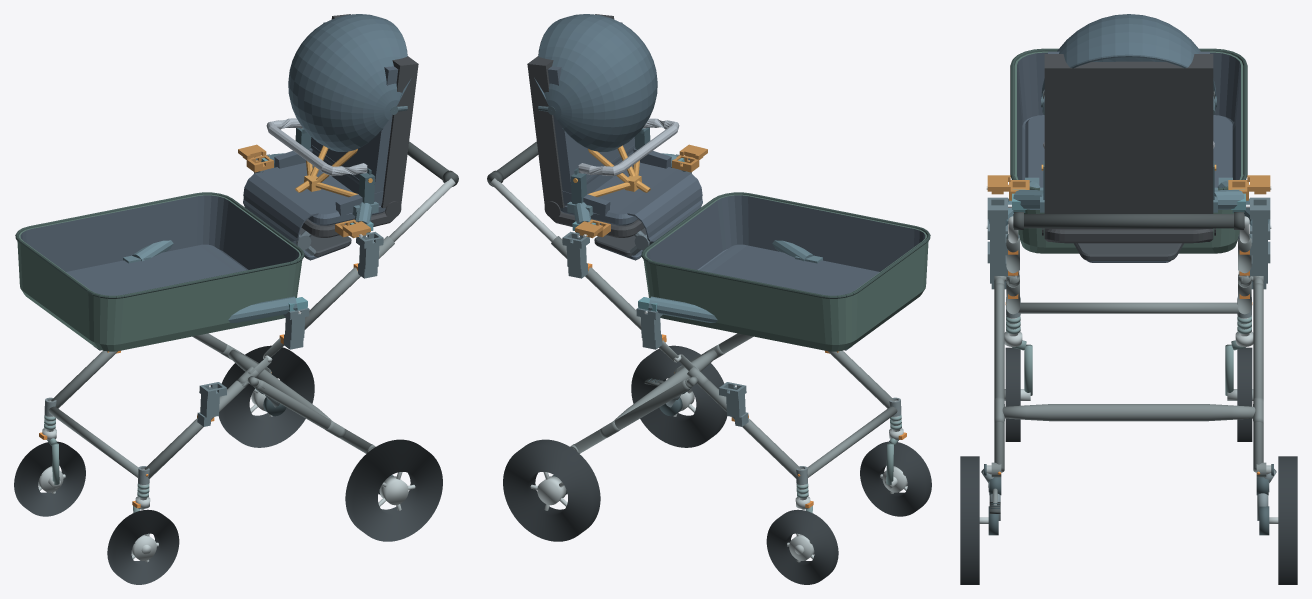
The model's file is D11_w650_state1_wheel_M.glb.
The picture shows the model from 3 angles, left to right: view 1: azimuth 30°, elevation 25°; view 2: azimuth 150°, elevation 25°; view 3: azimuth 270°, elevation 25°; orthographic projection. The views are drawn at different scales.
Visible parts, largest first — view 1: D11_Lower, D11_Upper, RL_tire.008, RR_tire.008, FL_tire.008, FR_tire.008, D11_Lower_Mount_M, V46_rear_leg_-1.009, main_lower_-1.009, front_fixed_round_tube.008, main_upper_-1.009, Universal_Cabin_Receiver_H_-1 (+8 smaller); view 2: D11_Lower, D11_Upper, RR_tire.008, RL_tire.008, FR_tire.008, FL_tire.008, D11_Lower_Mount_M, V46_rear_leg_1.009, main_lower_1.009, front_fixed_round_tube.008, main_upper_1.009, Universal_Cabin_Receiver_H_1 (+8 smaller); view 3: D11_Upper, D11_Lower, V46_rearbar.009, round_handle.008, front_fixed_round_tube.008, RL_tire.008, RR_tire.008, V46_rear_leg_1.009, V46_rear_leg_-1.009, D11_Upper_Mount_H, FL_tire.008, FR_tire.008 (+7 smaller).
Part boxes in pixels (box(x1,y1,x2,y2)): D11_Lower: box(15, 192, 304, 351); D11_Upper: box(243, 14, 418, 260); RL_tire.008: box(345, 439, 442, 541); RR_tire.008: box(218, 345, 314, 447); FL_tire.008: box(107, 509, 179, 584); FR_tire.008: box(14, 441, 85, 516); D11_Lower_Mount_M: box(123, 240, 307, 322); V46_rear_leg_-1.009: box(255, 380, 371, 453); main_lower_-1.009: box(144, 380, 247, 478); front_fixed_round_tube.008: box(48, 406, 138, 477); main_upper_-1.009: box(304, 236, 394, 329); Universal_Cabin_Receiver_H_-1: box(356, 231, 383, 278); D11_Lower: box(641, 192, 930, 351); D11_Upper: box(527, 14, 702, 260); RR_tire.008: box(503, 439, 600, 541); RL_tire.008: box(631, 345, 727, 447); FR_tire.008: box(766, 509, 838, 584); FL_tire.008: box(860, 441, 931, 516); D11_Lower_Mount_M: box(638, 240, 822, 322); V46_rear_leg_1.009: box(574, 380, 690, 453); main_lower_1.009: box(698, 380, 801, 478); front_fixed_round_tube.008: box(807, 406, 897, 477); main_upper_1.009: box(551, 236, 641, 329); Universal_Cabin_Receiver_H_1: box(562, 231, 589, 278); D11_Upper: box(1041, 14, 1216, 262); D11_Lower: box(1010, 48, 1247, 253); V46_rearbar.009: box(1002, 404, 1255, 421); round_handle.008: box(1013, 214, 1244, 228); front_fixed_round_tube.008: box(1018, 302, 1239, 313); RL_tire.008: box(960, 456, 979, 584); RR_tire.008: box(1278, 456, 1297, 584); V46_rear_leg_1.009: box(1253, 283, 1263, 472); V46_rear_leg_-1.009: box(994, 283, 1004, 472); D11_Upper_Mount_H: box(1008, 187, 1249, 212); FL_tire.008: box(1005, 347, 1020, 441); FR_tire.008: box(1237, 347, 1252, 441).
Bounding box in the file's own units: 1.2 × 1.48 × 0.7871.
